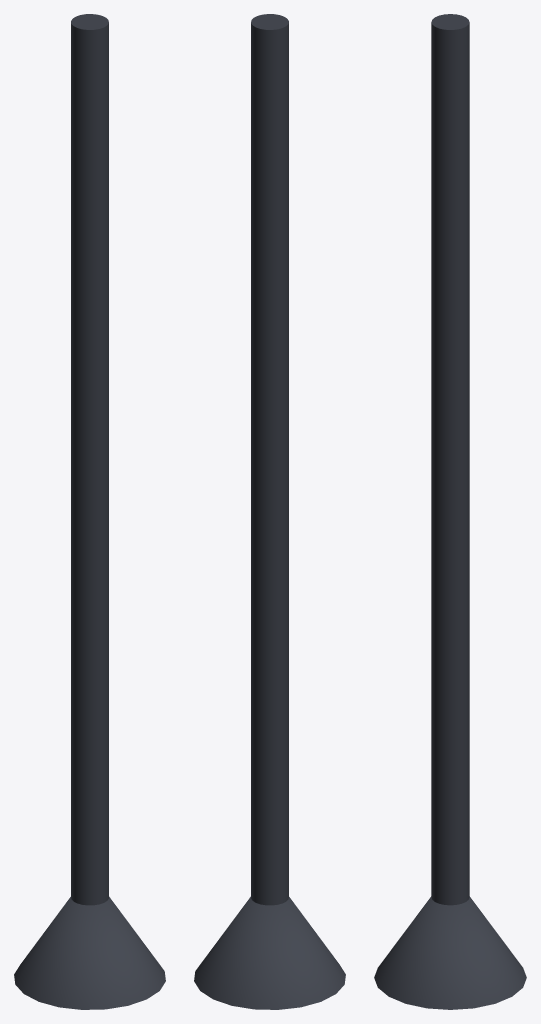
Rendered from Tutorial_light.fbx.
3 renders of one model, left to right at view 1: azimuth 30°, elevation 25°; view 2: azimuth 150°, elevation 25°; view 3: azimuth 270°, elevation 25°, orthographic.
Visible parts, largest first — view 1: lightCable, lightSocket; view 2: lightCable, lightSocket; view 3: lightCable, lightSocket.
Boxes of the visible parts, box(x1,y1,x2,y2) form: lightCable: box(71, 14, 108, 905); lightSocket: box(14, 896, 165, 1009); lightCable: box(251, 14, 288, 905); lightSocket: box(194, 896, 345, 1009); lightCable: box(431, 14, 469, 905); lightSocket: box(374, 896, 526, 1009).
Size of the model in its own units: 3.5 by 24.16 by 3.5.
1 material, 1 textured.
